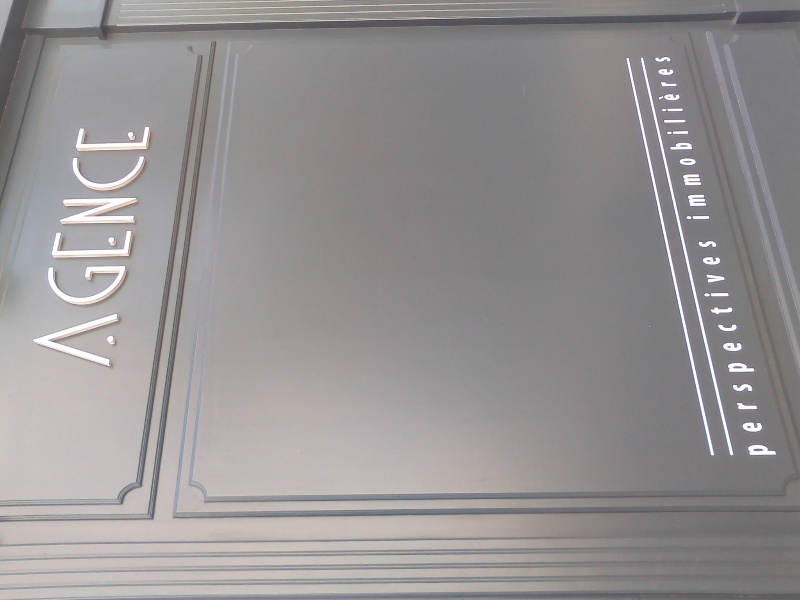text: (81, 120, 96, 374), (97, 120, 112, 374), (113, 120, 128, 374), (129, 120, 144, 374), (689, 224, 704, 458), (705, 224, 720, 458), (721, 224, 736, 458), (737, 224, 752, 458), (753, 224, 768, 458), (657, 46, 672, 225), (673, 46, 688, 225), (689, 46, 704, 225), (769, 224, 780, 458), (72, 120, 80, 374), (645, 46, 656, 225), (145, 120, 152, 374), (705, 46, 712, 225)
